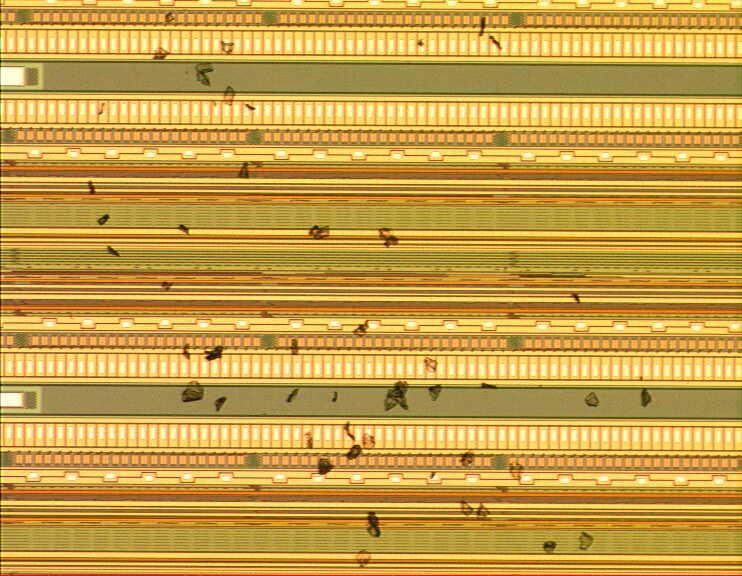PO CONTAMINATION: (72, 1, 667, 576)
